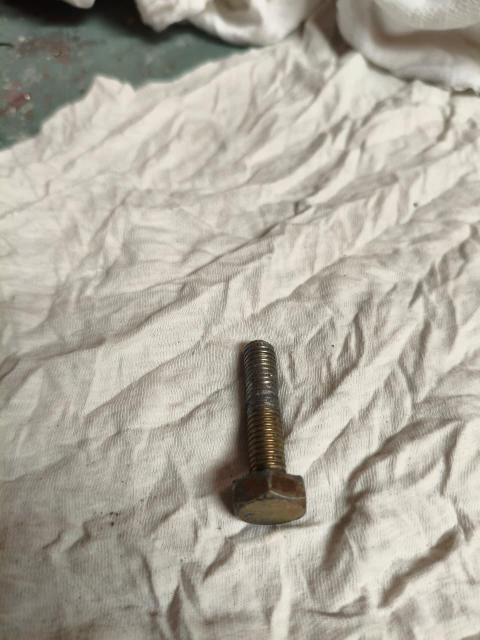Metal: (233, 335, 303, 518)
